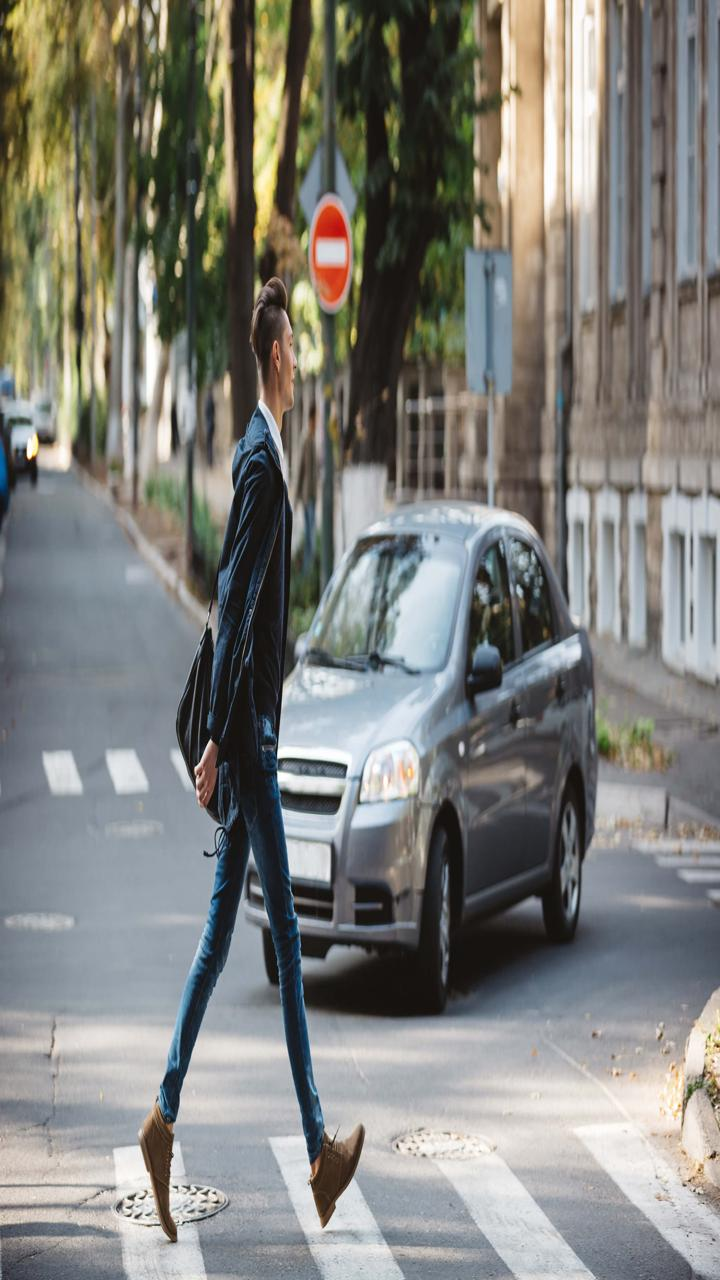Traffic sign: (284, 169, 368, 317)
pedestrian: (128, 225, 383, 1244)
vehicle: (208, 497, 608, 1007)
